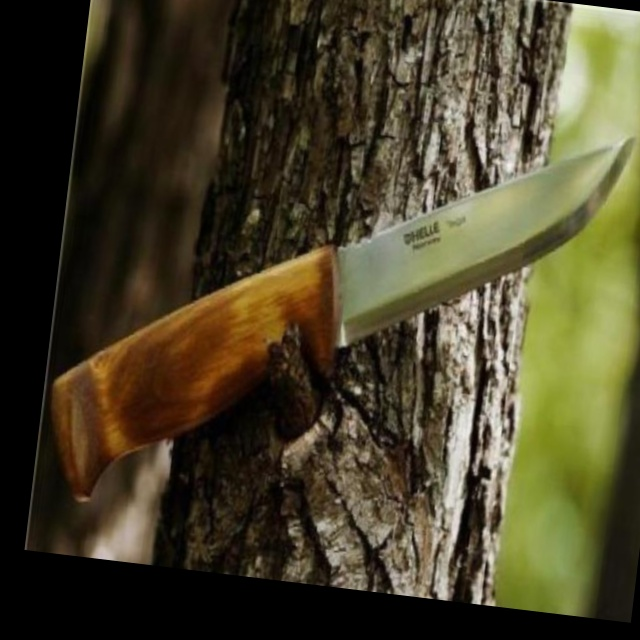Sharp-Object: (41, 68, 636, 558)
